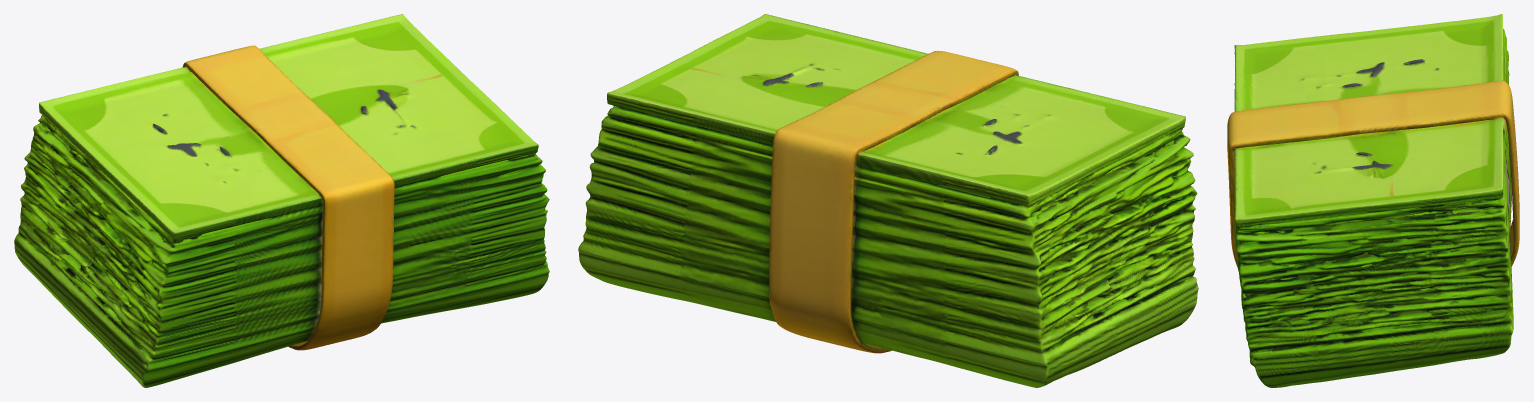
The model's file is tripo_convert_62c7cee6-6ee1-4373-940e-d375472ceec0.fbx.
The picture shows the model from 3 angles, left to right: view 1: azimuth 30°, elevation 25°; view 2: azimuth 150°, elevation 25°; view 3: azimuth 270°, elevation 25°; orthographic projection. The views are drawn at different scales.
Parts seen in each view (by area): view 1: tripo_node_62c7cee6; view 2: tripo_node_62c7cee6; view 3: tripo_node_62c7cee6.
Part boxes in pixels (x1=…): tripo_node_62c7cee6: x1=14, y1=14, x2=549, y2=387; tripo_node_62c7cee6: x1=578, y1=14, x2=1198, y2=387; tripo_node_62c7cee6: x1=1227, y1=14, x2=1519, y2=387.
Size of the model in its own units: 1 by 0.5024 by 0.6348.
Materials: 1 (1 with a texture image).
